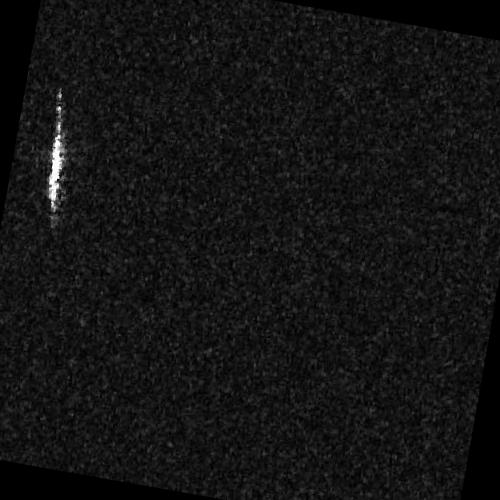ship: (47, 100, 63, 211)
